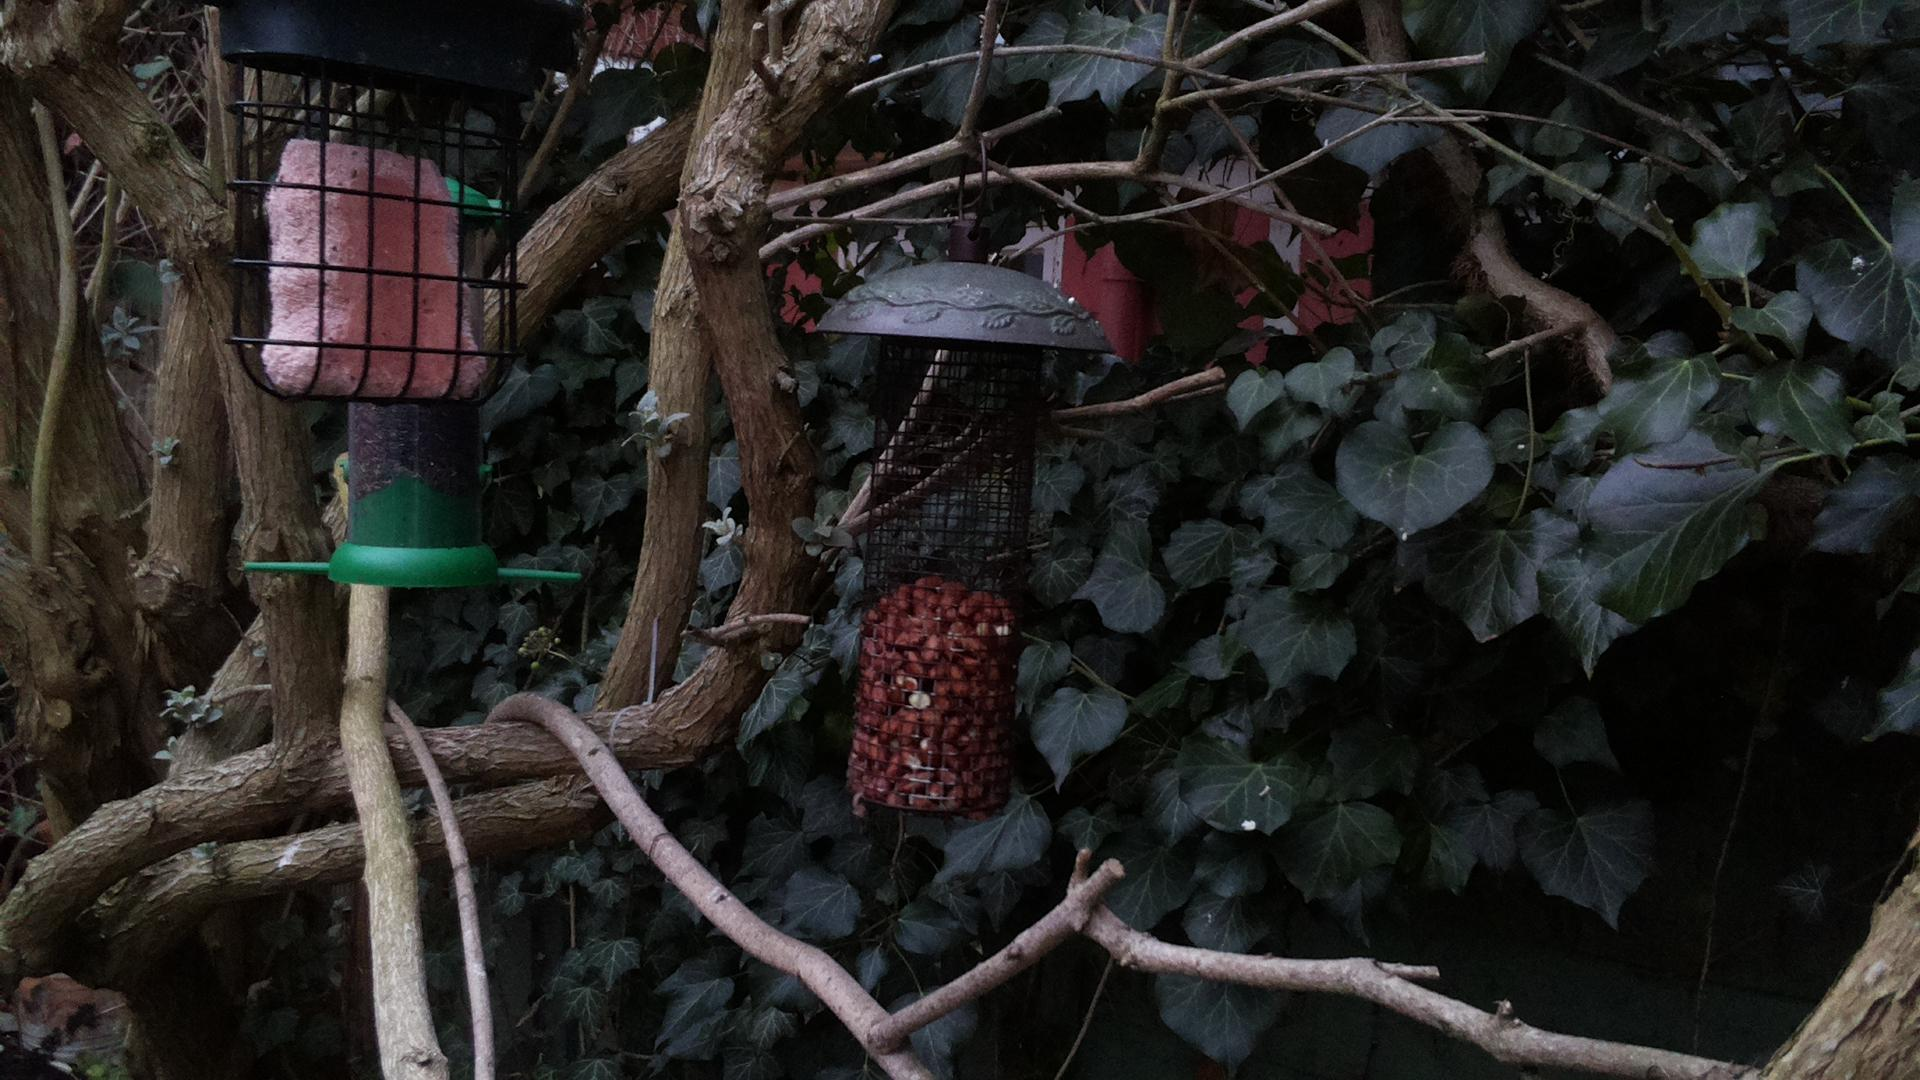unclassified: (392, 682, 742, 926), (1677, 855, 1917, 1077), (609, 140, 700, 322)
